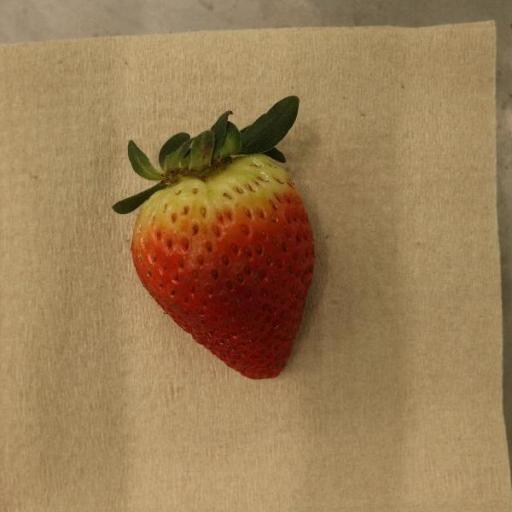Strawberry: (113, 96, 316, 381)
